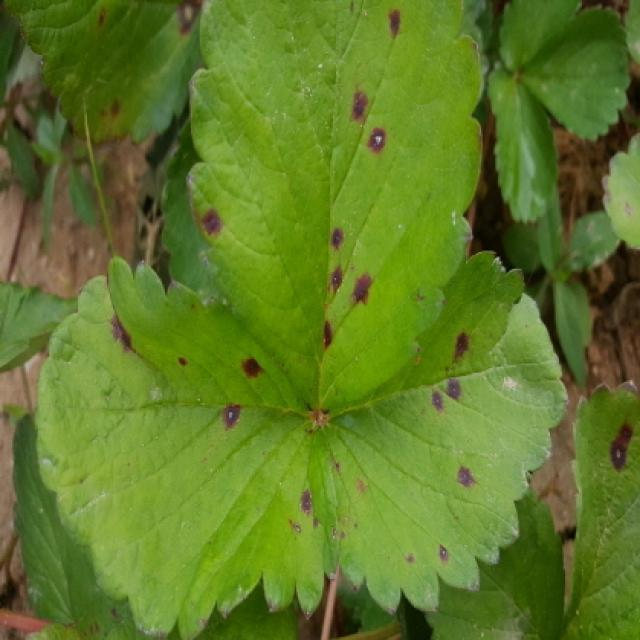Leaf Spot: (184, 0, 483, 412), (33, 257, 340, 638), (317, 246, 571, 619), (561, 381, 638, 638), (600, 133, 638, 251)
